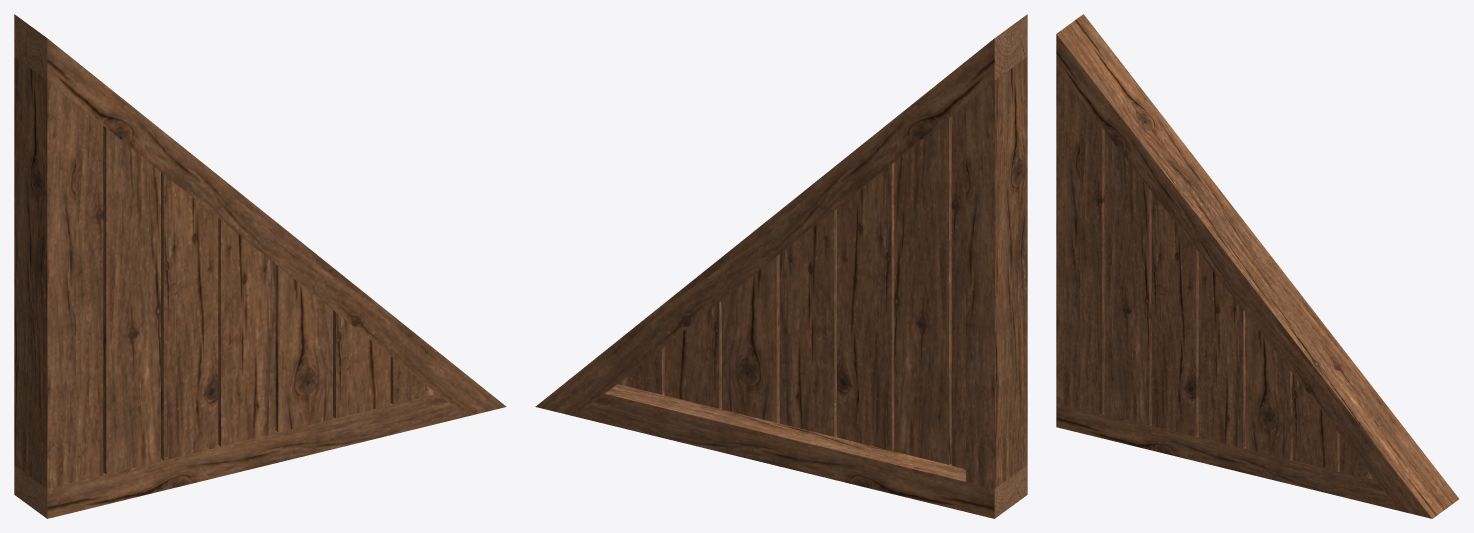
File: W15_GableFalling_2x2x0.25.fbx
The picture shows the model from 3 angles, left to right: view 1: azimuth 30°, elevation 25°; view 2: azimuth 150°, elevation 25°; view 3: azimuth 330°, elevation 25°; orthographic projection. The views are drawn at different scales.
Visible parts, largest first — view 1: OpeningKit_W15_Falling_Export; view 2: OpeningKit_W15_Falling_Export; view 3: OpeningKit_W15_Falling_Export.
Part boxes in pixels (x1,y1,x2,y2): OpeningKit_W15_Falling_Export: (14, 14, 506, 518); OpeningKit_W15_Falling_Export: (535, 14, 1027, 518); OpeningKit_W15_Falling_Export: (1056, 14, 1458, 518).
Bounding box in the file's own units: 2 × 2 × 0.25.
